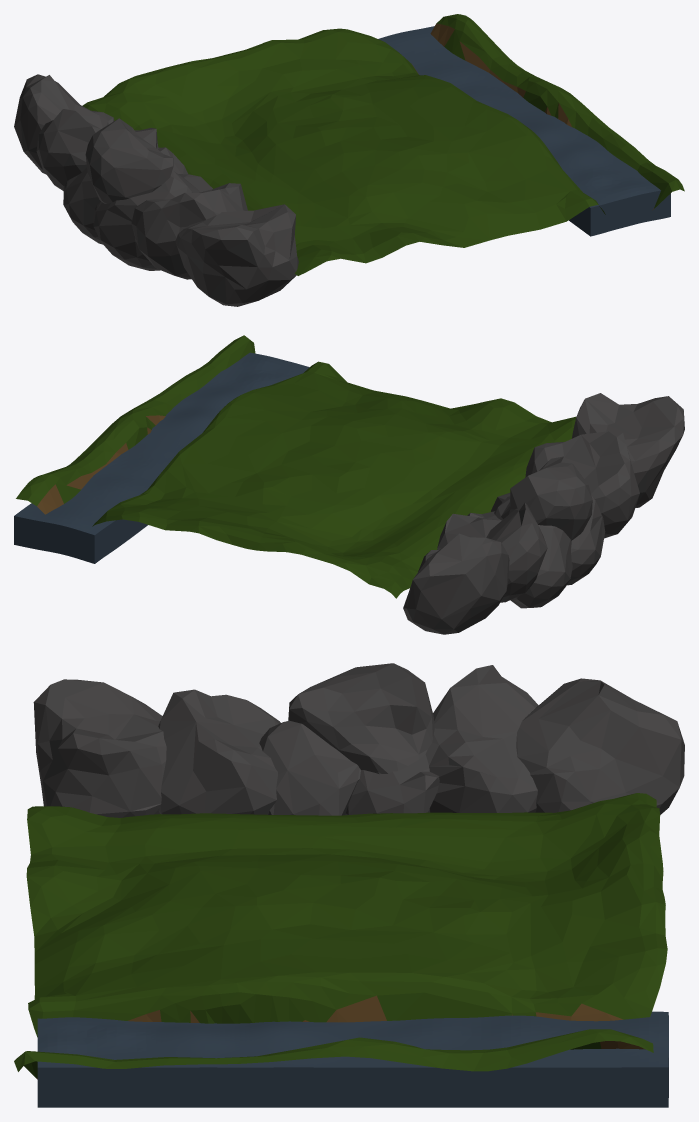
Rendered from Landscape.gltf.
The picture shows the model from 3 angles, top to bottom: view 1: azimuth 30°, elevation 25°; view 2: azimuth 150°, elevation 25°; view 3: azimuth 270°, elevation 25°; orthographic projection. The views are drawn at different scales.
Parts seen in each view (by area): view 1: Plane, Plane.001; view 2: Plane, Plane.001; view 3: Plane, Plane.001.
Part boxes in pixels (x1,y1,x2,y2): Plane: [14, 14, 684, 306]; Plane.001: [378, 26, 670, 236]; Plane: [16, 335, 684, 634]; Plane.001: [14, 352, 309, 563]; Plane: [14, 663, 684, 1079]; Plane.001: [37, 1011, 668, 1107].
Size of the model in its own units: 50.07 by 12.95 by 43.67.
